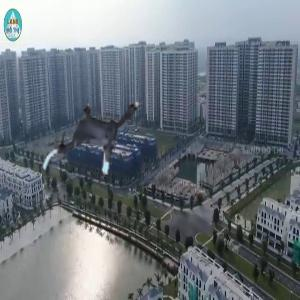drone: (38, 91, 144, 197)
